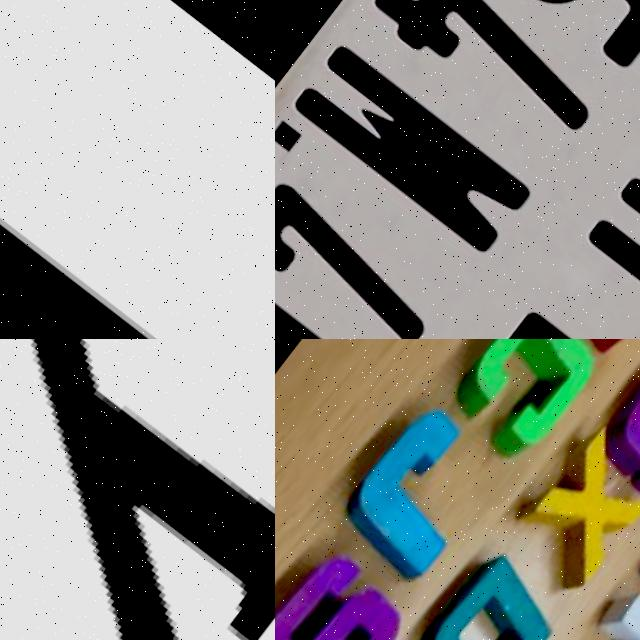4: (359, 0, 612, 172), (275, 141, 443, 339)
5: (431, 0, 640, 84)
C: (423, 339, 614, 476)
D: (386, 547, 574, 640)
G: (569, 339, 640, 519)
H: (533, 573, 640, 640)
J: (315, 399, 507, 591)
L: (0, 38, 238, 339), (275, 224, 380, 339)
M: (284, 34, 537, 269)
S: (275, 539, 417, 640)
X: (496, 428, 640, 603)
Y: (0, 339, 275, 640)
